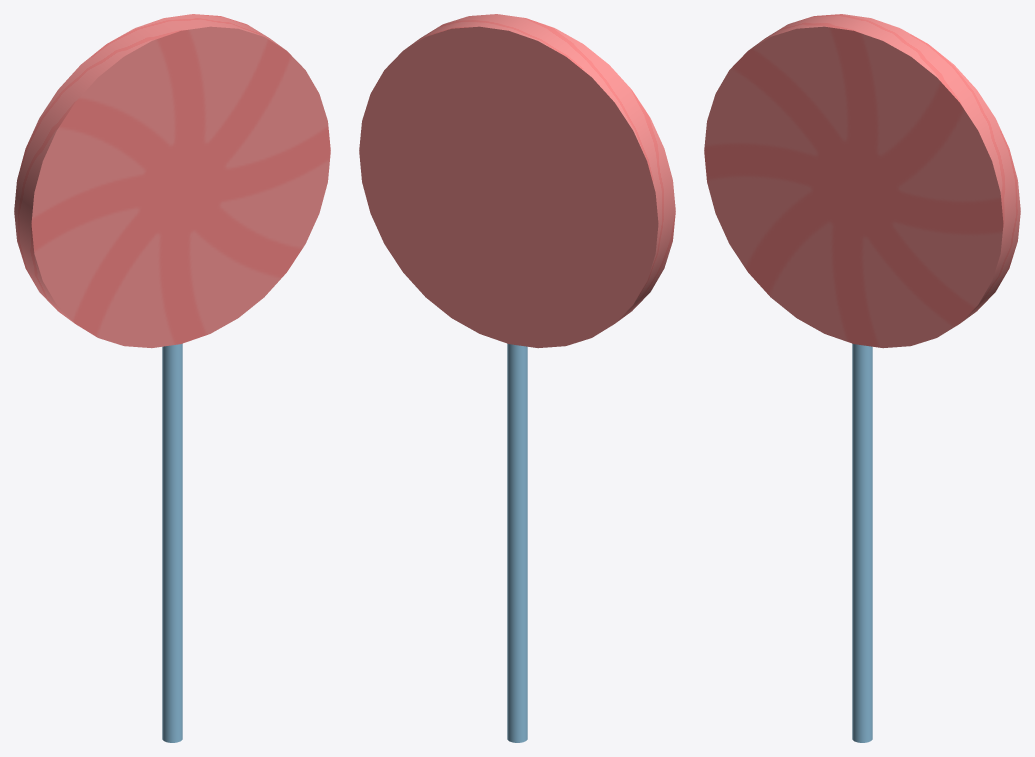
Rendered from candy1.fbx.
3 renders of one model, left to right at view 1: azimuth 30°, elevation 25°; view 2: azimuth 150°, elevation 25°; view 3: azimuth 330°, elevation 25°, orthographic.
Parts seen in each view (by area): view 1: Cylinder.001; view 2: Cylinder.001; view 3: Cylinder.001.
Part boxes in pixels (bbox=[...]): Cylinder.001: bbox=[14, 14, 330, 742]; Cylinder.001: bbox=[359, 14, 675, 742]; Cylinder.001: bbox=[704, 14, 1020, 742].
Size of the model in its own units: 1.61 by 3.67 by 0.1617.
Materials: 1 (1 with a texture image).
